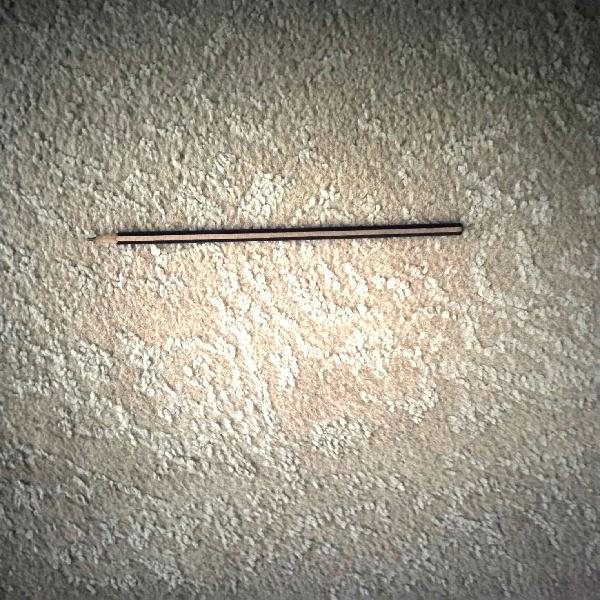pencil: (84, 215, 470, 256)
